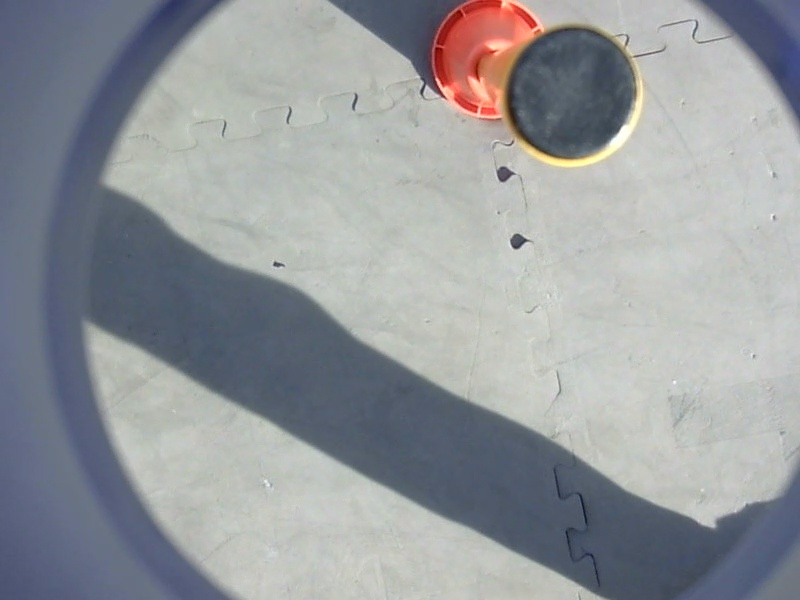tip: (495, 19, 652, 176)
